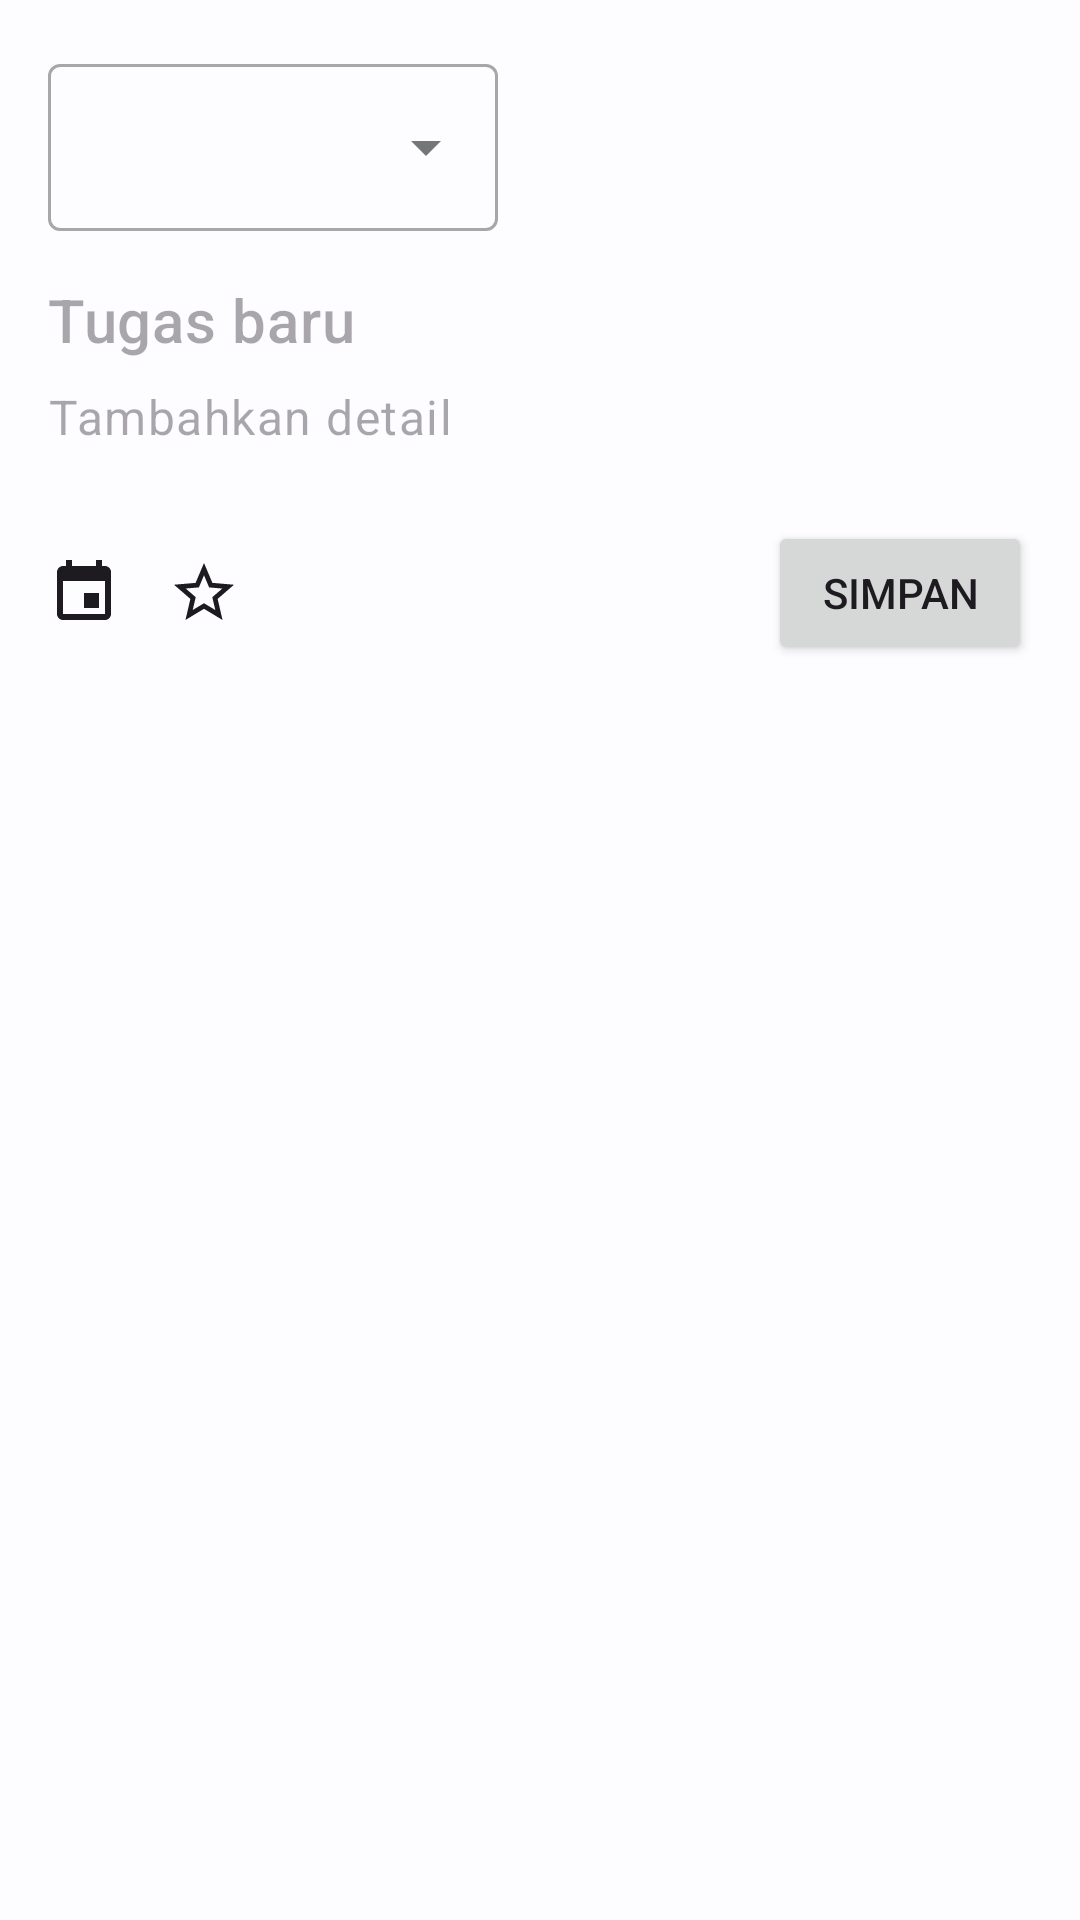

Named icons in this screenshot (1080w x 1920h) and their centers, [x,y]:
Atur batas waktu: [84,590]
Tandai sebagai favorit: [204,591]
